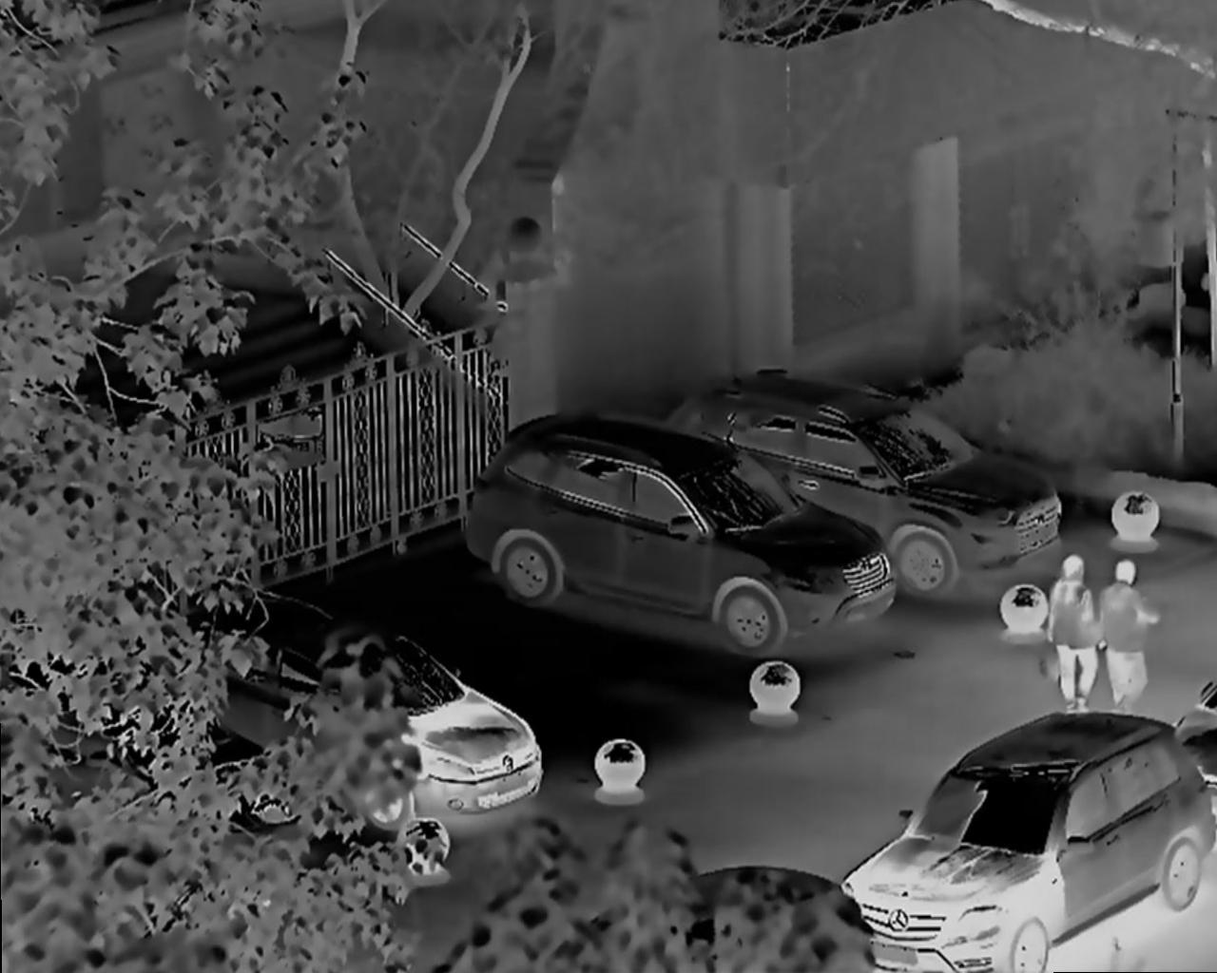person: (1099, 556, 1159, 716), (1044, 551, 1102, 714)
